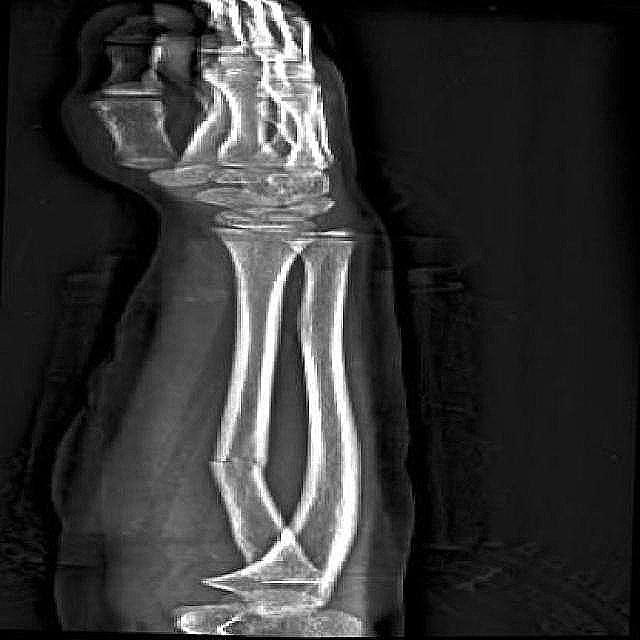bone: (206, 436, 272, 482)
